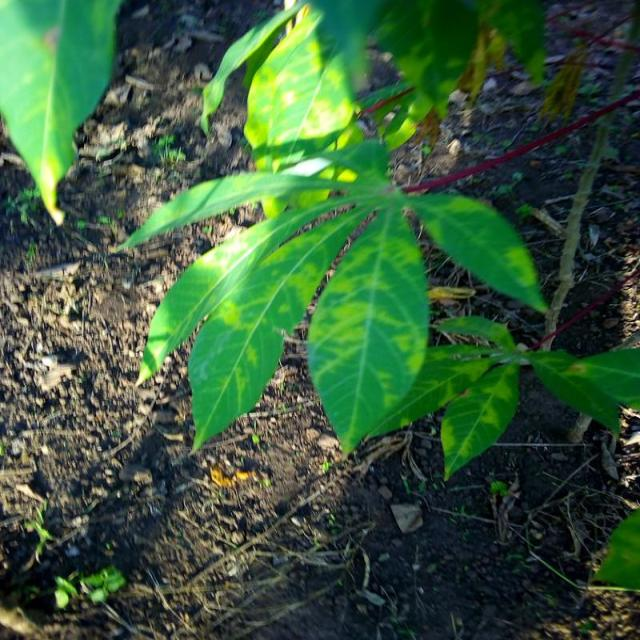cassava leaf: (306, 193, 430, 454), (0, 0, 122, 226)
